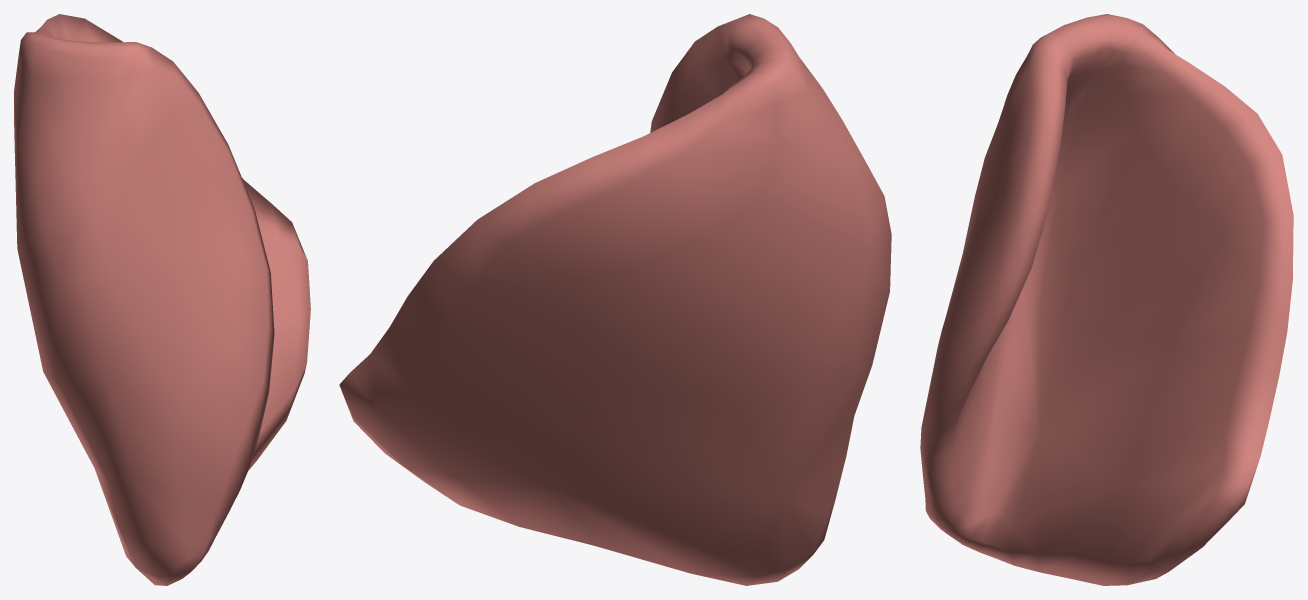
3 views of the same model, side by side, from view 1: azimuth 30°, elevation 25°; view 2: azimuth 150°, elevation 25°; view 3: azimuth 270°, elevation 25° (orthographic). The views are drawn at different scales.
Visible parts, largest first — view 1: ZA_c71513ce660a3b5b; view 2: ZA_c71513ce660a3b5b; view 3: ZA_c71513ce660a3b5b.
Boxes of the visible parts, x1,y1,x2,y2 form: ZA_c71513ce660a3b5b: (14, 14, 310, 585); ZA_c71513ce660a3b5b: (339, 14, 891, 585); ZA_c71513ce660a3b5b: (920, 14, 1293, 585).
Size of the model in its own units: 0.00427 by 0.00564 by 0.00372.
